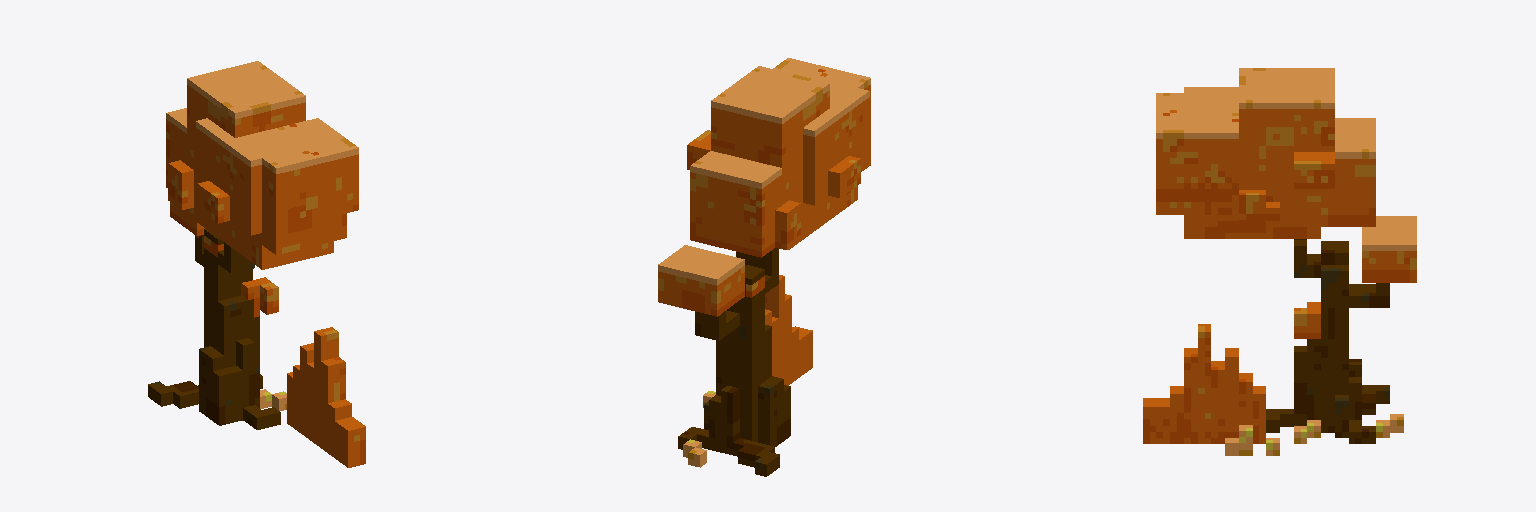
The picture shows the model from 3 angles: view 1: azimuth 30°, elevation 25°; view 2: azimuth 150°, elevation 25°; view 3: azimuth 270°, elevation 25°; orthographic projection.
Size of the model in its own units: 22 by 54 by 40.
Materials: 1 (1 with a texture image).